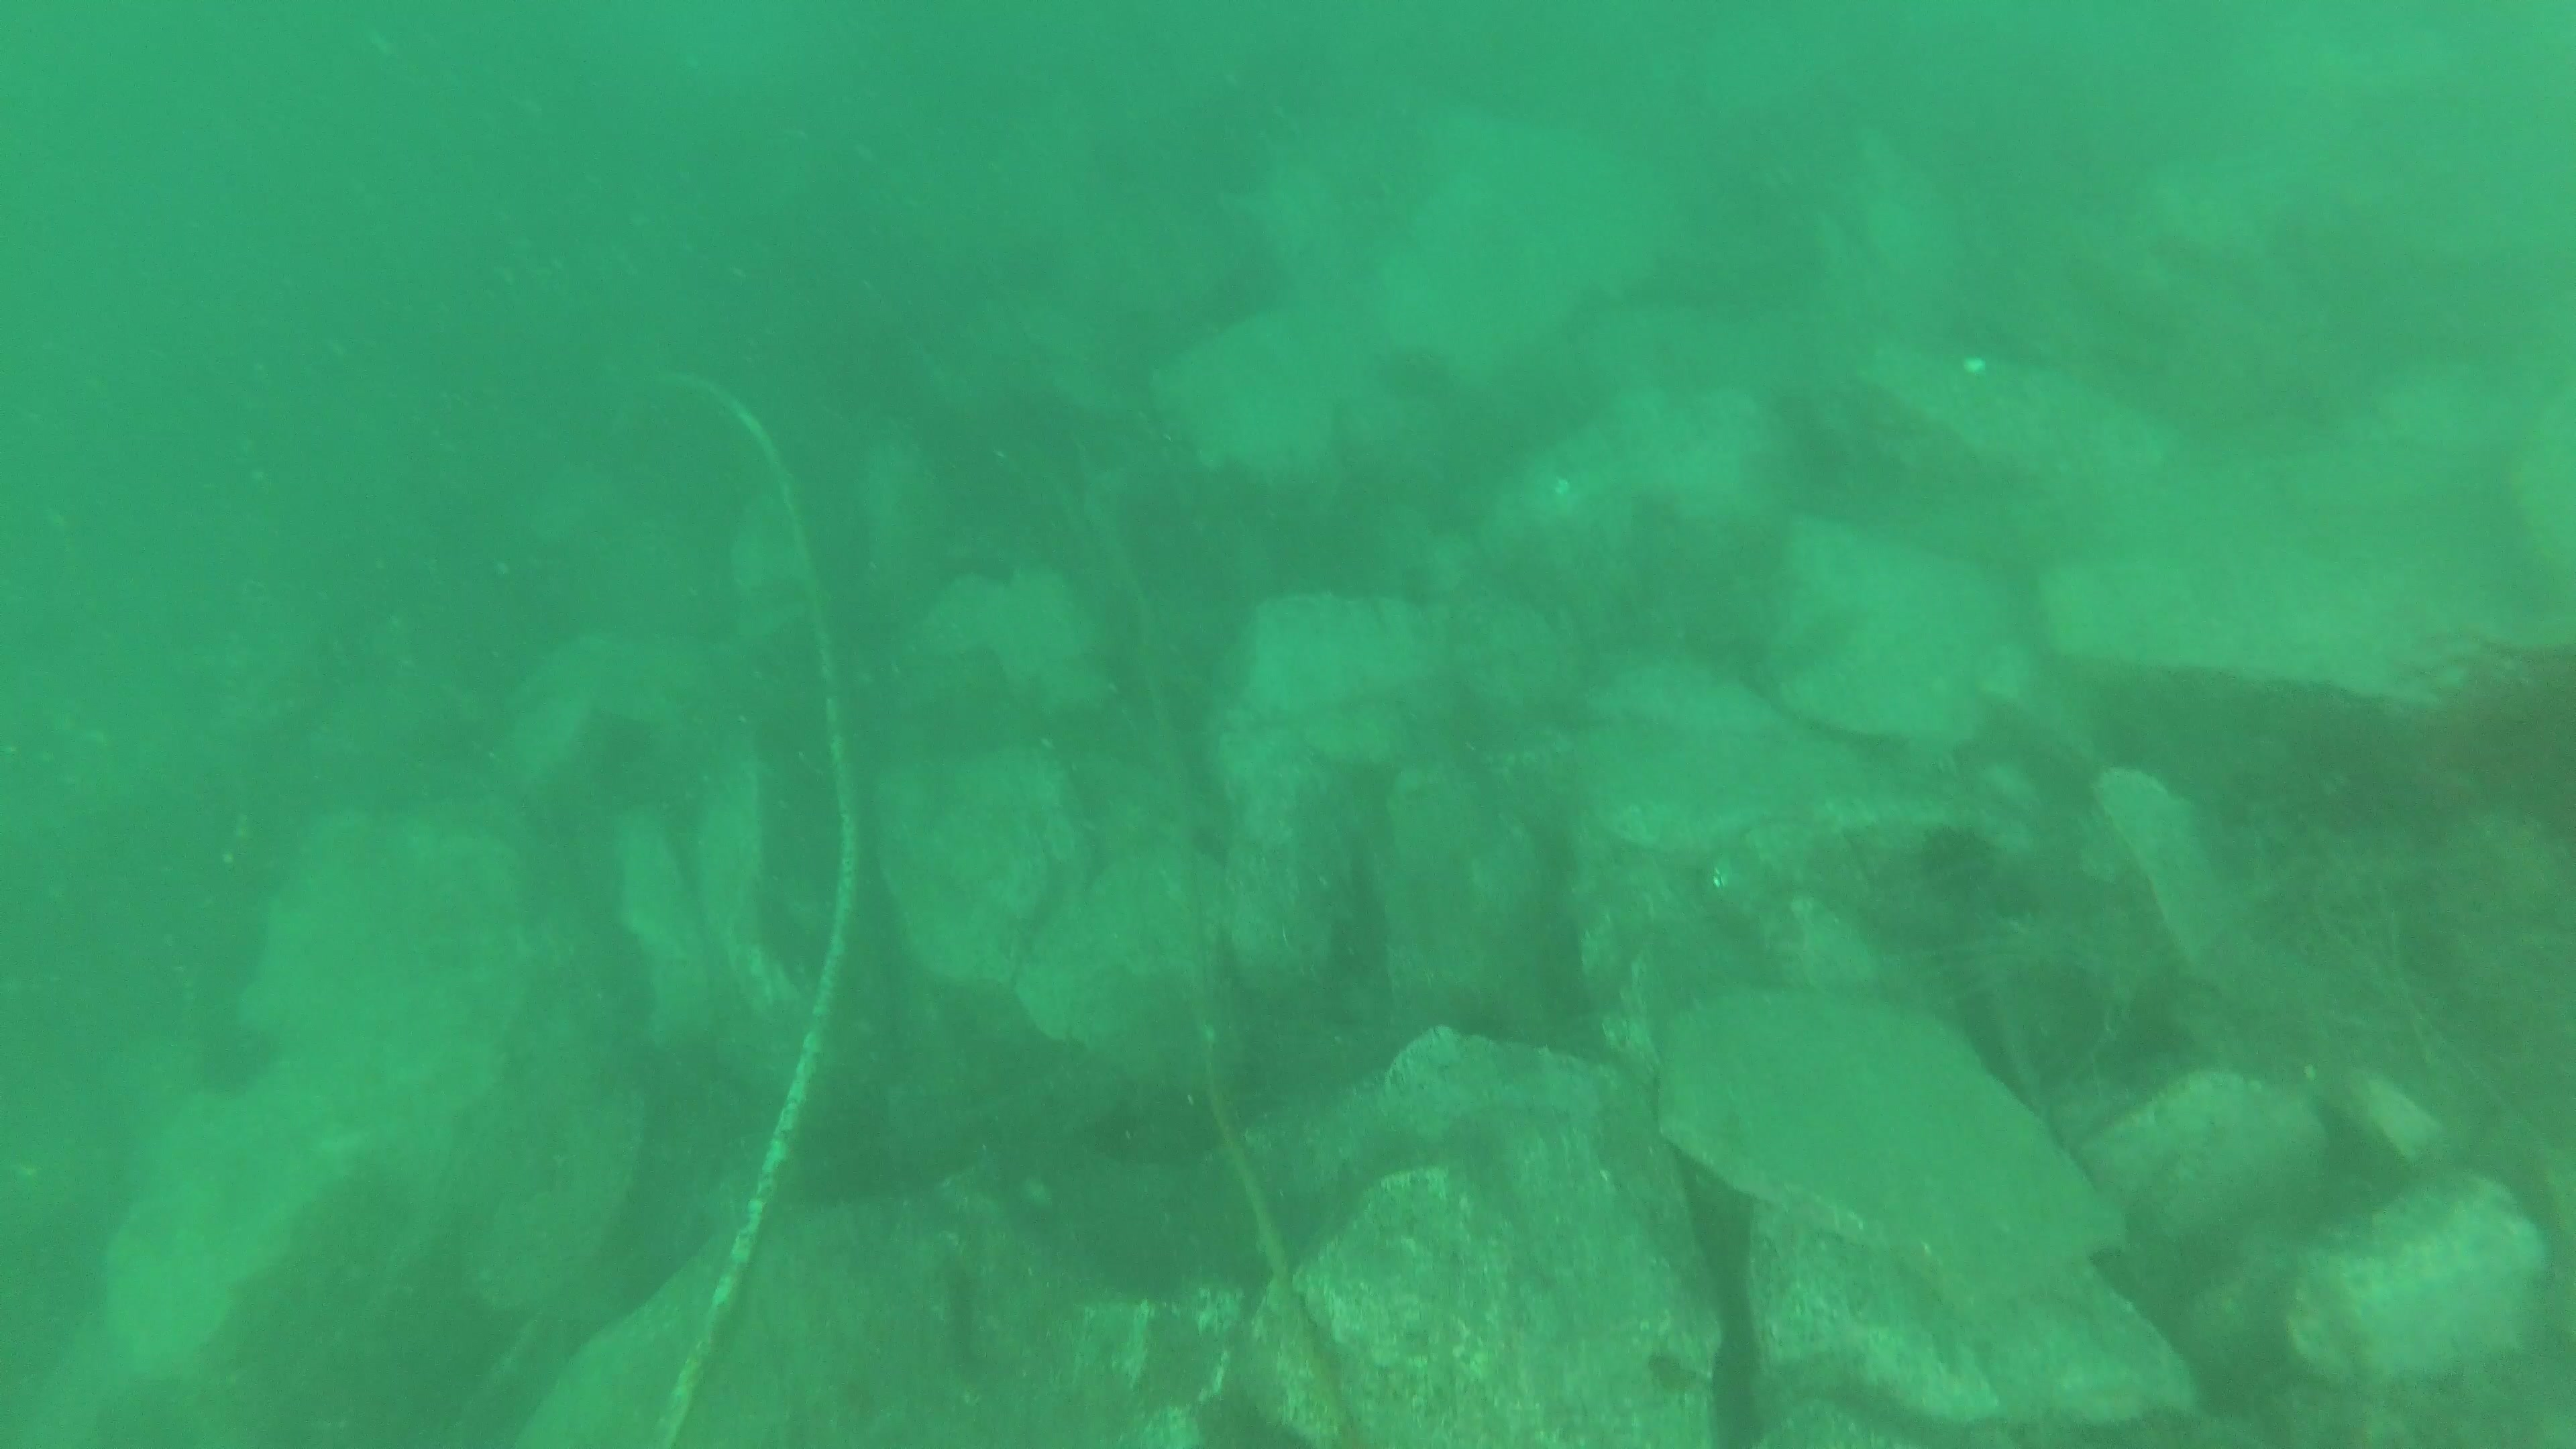echinus: (1907, 812, 2012, 904)
